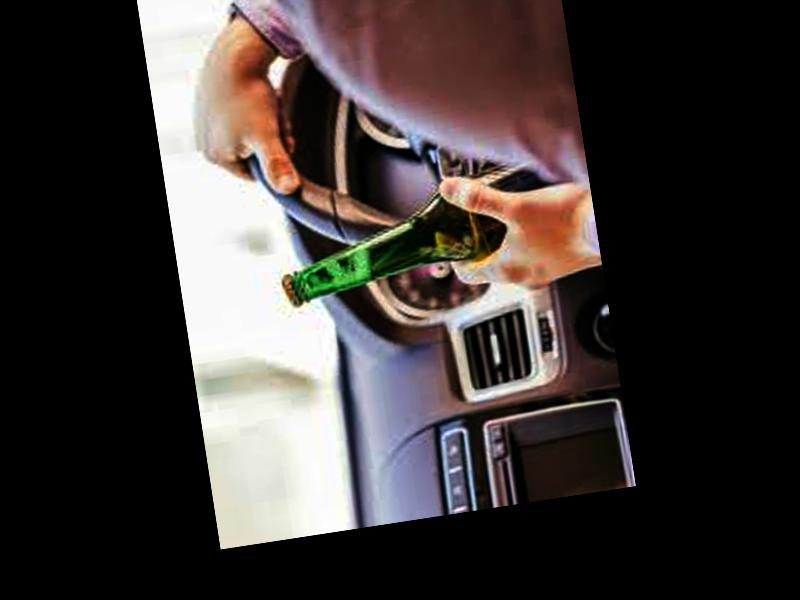Beer: (266, 149, 588, 310)
